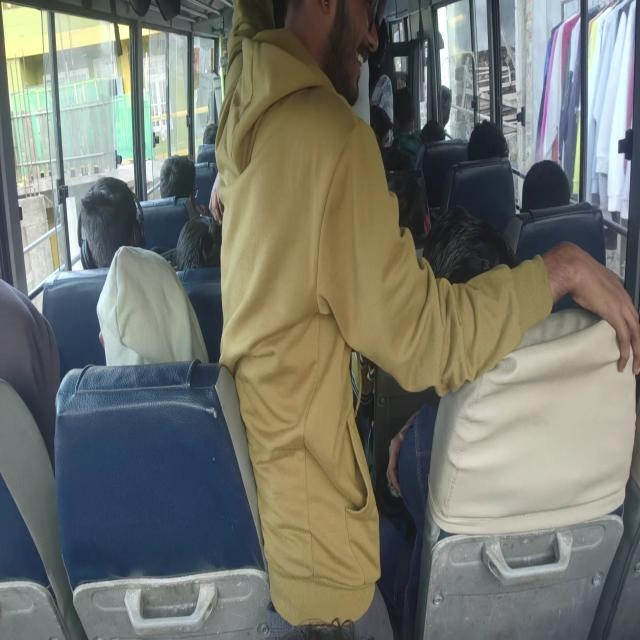person: (264, 0, 400, 268), (414, 225, 508, 337), (0, 296, 60, 408), (72, 187, 144, 270), (170, 218, 235, 300), (518, 153, 572, 215), (468, 112, 512, 166), (392, 164, 438, 212), (159, 154, 199, 208), (366, 18, 394, 94), (396, 87, 428, 125), (371, 106, 395, 148), (419, 116, 453, 144), (202, 118, 222, 158)
